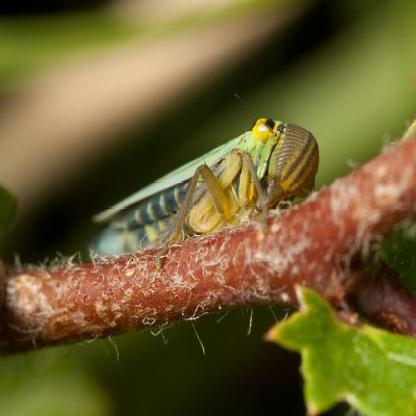Green-Leafhopper: (86, 117, 319, 261)
